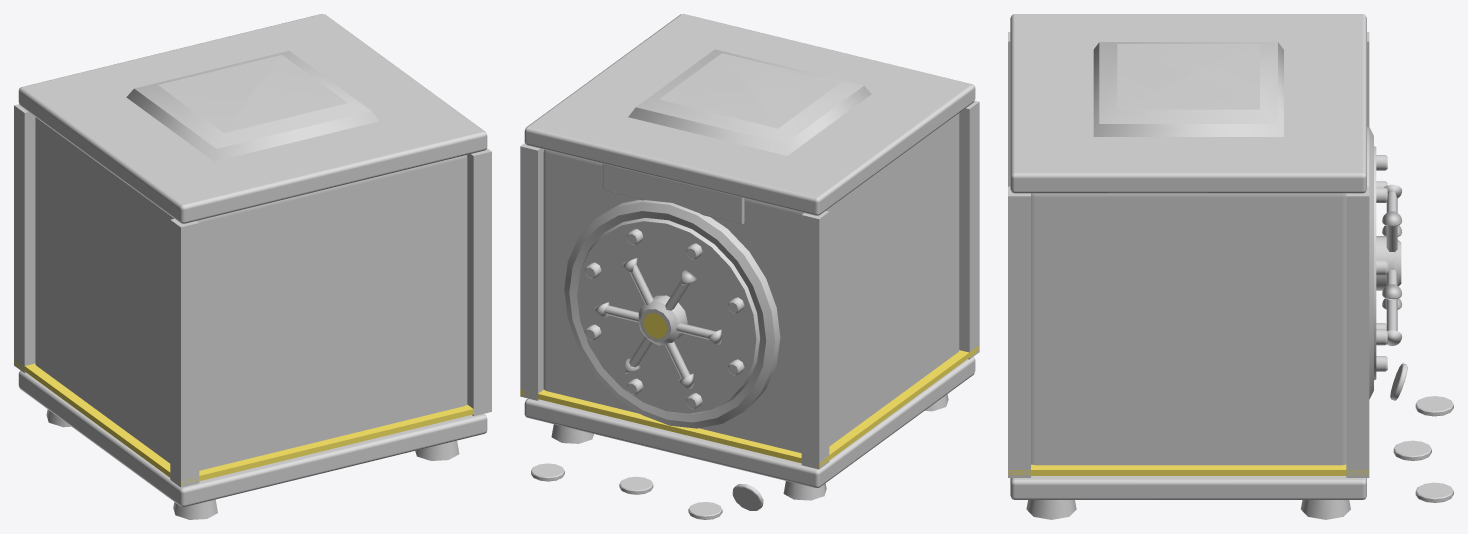
File: VaultDowntown.glb
3 renders of one model, left to right at view 1: azimuth 30°, elevation 25°; view 2: azimuth 150°, elevation 25°; view 3: azimuth 270°, elevation 25°, orthographic. The views are drawn at different scales.
Parts seen in each view (by area): view 1: Body, Glow; view 2: Body, Glow; view 3: Body, Glow.
Boxes of the visible parts, x1,y1,x2,y2 form: Body: (14,14,491,519); Glow: (14,360,473,485); Body: (520,14,979,519); Glow: (520,312,979,467); Body: (1008,14,1453,519); Glow: (1008,464,1369,475).
Size of the model in its own units: 8.5 by 9.04 by 9.75.
